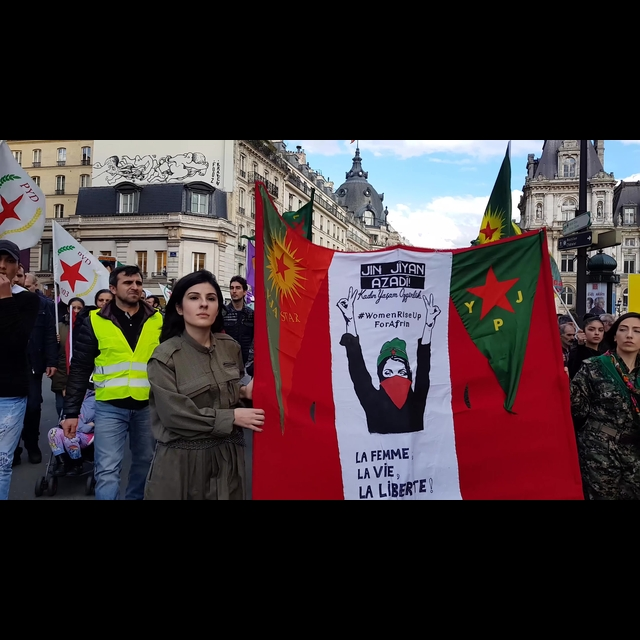PYD: (1, 143, 45, 239), (49, 226, 100, 295)
